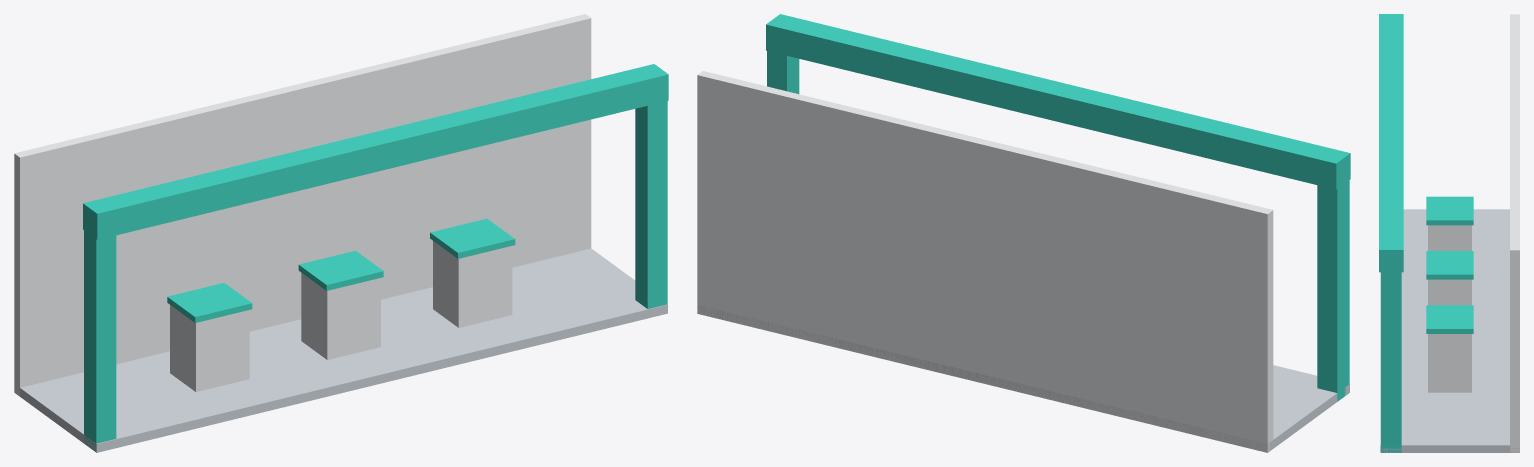
3 renders of one model, left to right at view 1: azimuth 30°, elevation 25°; view 2: azimuth 150°, elevation 25°; view 3: azimuth 270°, elevation 25°, orthographic. The views are drawn at different scales.
Parts seen in each view (by area): view 1: Exhibition Booth Concept; view 2: Exhibition Booth Concept; view 3: Exhibition Booth Concept.
Boxes of the visible parts, left/top/right/bottom form: Exhibition Booth Concept: left=14, top=14, right=668, bottom=452; Exhibition Booth Concept: left=697, top=14, right=1350, bottom=452; Exhibition Booth Concept: left=1379, top=14, right=1519, bottom=452.
Size of the model in its own units: 8 by 3.2 by 2.01.
